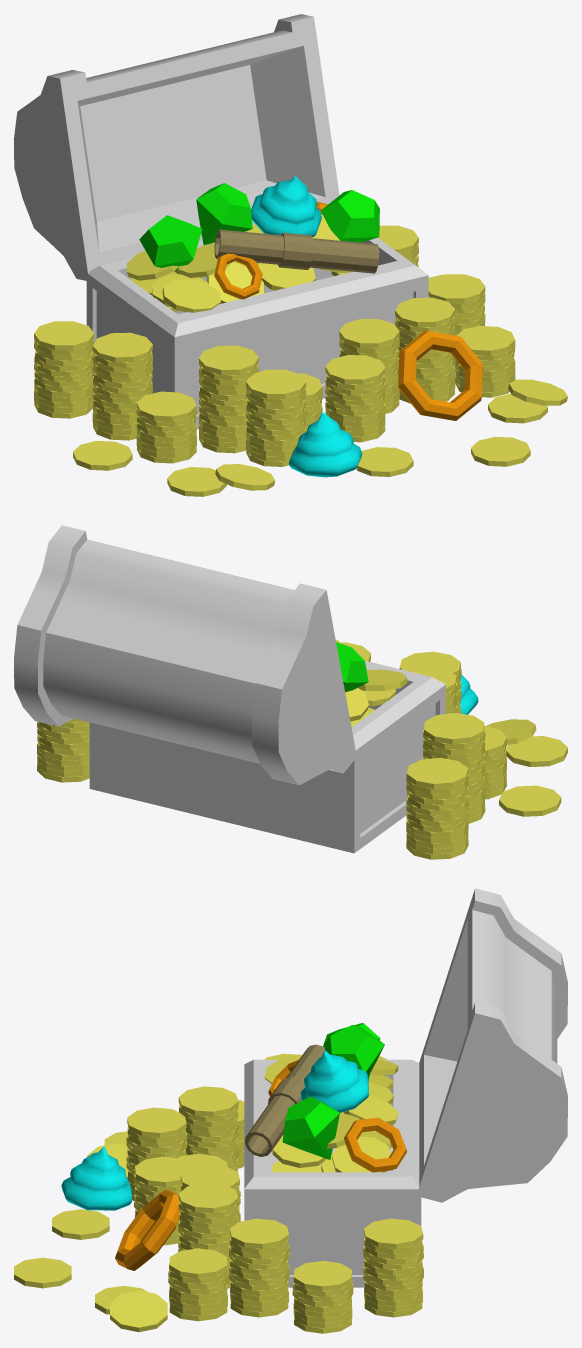
The model's file is CofreTesoro.fbx.
The picture shows the model from 3 angles, top to bottom: view 1: azimuth 30°, elevation 25°; view 2: azimuth 150°, elevation 25°; view 3: azimuth 270°, elevation 25°; orthographic projection. The views are drawn at different scales.
Parts seen in each view (by area): view 1: Cofre, MonticulosMonedas, MonedasPiso, Gemas1, MonedasDentroCofre, FlufferGemas, SonicRings, MapaTesoro; view 2: Cofre, MonticulosMonedas, MonedasPiso, MonedasDentroCofre, Gemas1, FlufferGemas; view 3: Cofre, MonticulosMonedas, MonedasPiso, FlufferGemas, MonedasDentroCofre, SonicRings, Gemas1, MapaTesoro.
Part boxes in pixels (x1,y1,x2,y2): Cofre: (14,14,428,429); MonticulosMonedas: (34,225,515,466); MonedasPiso: (73,379,567,496); Gemas1: (139,183,379,270); MonedasDentroCofre: (126,214,351,312); FlufferGemas: (251,176,362,477); SonicRings: (214,201,482,420); MapaTesoro: (214,229,379,273); Cofre: (14,525,445,853); MonticulosMonedas: (37,642,506,859); MonedasPiso: (335,639,567,816); MonedasDentroCofre: (345,669,407,726); Gemas1: (336,642,368,692); FlufferGemas: (460,674,478,714); Cofre: (244,888,567,1287); MonticulosMonedas: (126,1053,423,1333); MonedasPiso: (14,1131,167,1332); FlufferGemas: (61,1050,368,1210); MonedasDentroCofre: (264,1055,398,1172); SonicRings: (115,1060,406,1270); Gemas1: (282,1023,384,1159); MapaTesoro: (245,1044,324,1156).
Bounding box in the file's own units: 435 × 261 × 469.
